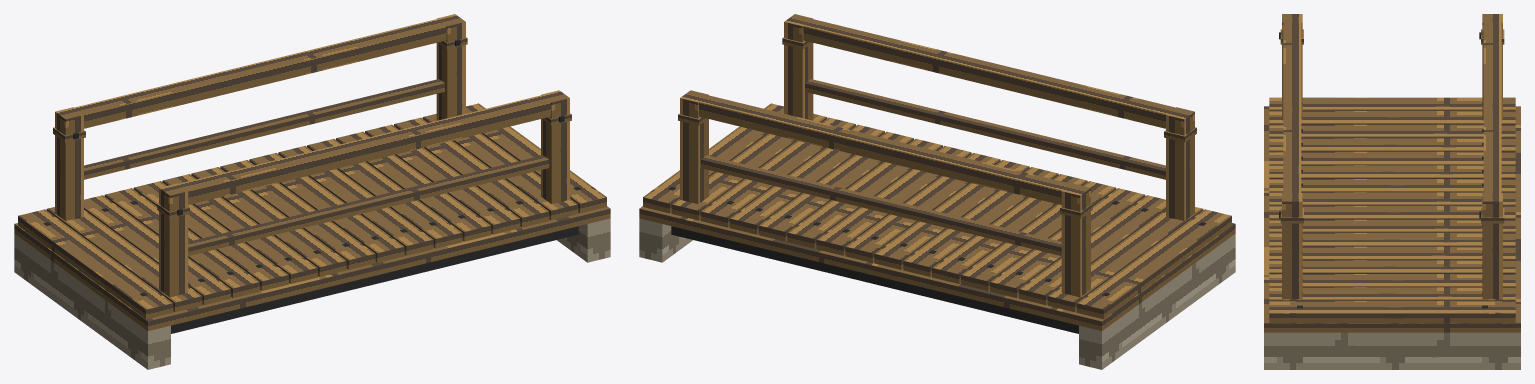
The model's file is bridge.glb.
3 renders of one model, left to right at view 1: azimuth 30°, elevation 25°; view 2: azimuth 150°, elevation 25°; view 3: azimuth 270°, elevation 25°, orthographic. The views are drawn at different scales.
Visible parts, largest first — view 1: CB230_Rail-0.78, CB230_Rail+0.78, CB230_BridgeDeckBeam, CB230_StoneAbutment-1.9, CB230_LowerRail-0.78, CB230_LowerRail0.78, CB230_DeckPlank_00, CB230_UnderBeam-0.78, CB230_DeckPlank_02, CB230_Post-1.65-0.78, CB230_DeckPlank_01, CB230_DeckPlank_07 (+16 smaller); view 2: CB230_Rail+0.78, CB230_Rail-0.78, CB230_BridgeDeckBeam, CB230_StoneAbutment-1.9, CB230_LowerRail0.78, CB230_LowerRail-0.78, CB230_DeckPlank_00, CB230_UnderBeam+0.78, CB230_DeckPlank_02, CB230_DeckPlank_01, CB230_Post-1.65+0.78, CB230_Post-1.65-0.78 (+16 smaller); view 3: CB230_StoneAbutment1.9, CB230_DeckPlank_15, CB230_BridgeDeckBeam, CB230_Rail+0.78, CB230_Rail-0.78, CB230_DeckPlank_02, CB230_DeckPlank_04, CB230_DeckPlank_11, CB230_DeckPlank_03, CB230_DeckPlank_05, CB230_DeckPlank_06, CB230_DeckPlank_14 (+12 smaller).
Boxes of the visible parts, left/top/right/bottom form: CB230_Rail-0.78: left=167, top=92, right=561, bottom=204; CB230_Rail+0.78: left=63, top=16, right=455, bottom=128; CB230_BridgeDeckBeam: left=14, top=206, right=610, bottom=330; CB230_StoneAbutment-1.9: left=14, top=233, right=170, bottom=369; CB230_LowerRail-0.78: left=188, top=155, right=549, bottom=255; CB230_LowerRail0.78: left=84, top=79, right=444, bottom=179; CB230_DeckPlank_00: left=18, top=209, right=173, bottom=319; CB230_UnderBeam-0.78: left=171, top=226, right=578, bottom=333; CB230_DeckPlank_02: left=84, top=195, right=230, bottom=305; CB230_Post-1.65-0.78: left=159, top=183, right=188, bottom=297; CB230_DeckPlank_01: left=46, top=207, right=202, bottom=312; CB230_DeckPlank_07: left=220, top=160, right=375, bottom=269; CB230_Rail+0.78: left=688, top=92, right=1082, bottom=204; CB230_Rail-0.78: left=793, top=16, right=1186, bottom=128; CB230_BridgeDeckBeam: left=639, top=206, right=1235, bottom=330; CB230_StoneAbutment-1.9: left=1079, top=233, right=1235, bottom=369; CB230_LowerRail0.78: left=700, top=155, right=1061, bottom=255; CB230_LowerRail-0.78: left=805, top=79, right=1165, bottom=179; CB230_DeckPlank_00: left=1076, top=209, right=1231, bottom=319; CB230_UnderBeam+0.78: left=671, top=226, right=1078, bottom=333; CB230_DeckPlank_02: left=1019, top=195, right=1165, bottom=305; CB230_DeckPlank_01: left=1047, top=207, right=1203, bottom=312; CB230_Post-1.65+0.78: left=1061, top=183, right=1090, bottom=297; CB230_Post-1.65-0.78: left=1166, top=107, right=1194, bottom=220; CB230_StoneAbutment1.9: left=1264, top=332, right=1520, bottom=369; CB230_DeckPlank_15: left=1269, top=301, right=1515, bottom=322; CB230_BridgeDeckBeam: left=1264, top=106, right=1520, bottom=332; CB230_Rail+0.78: left=1483, top=17, right=1501, bottom=198; CB230_Rail-0.78: left=1283, top=17, right=1301, bottom=198; CB230_DeckPlank_02: left=1269, top=124, right=1515, bottom=138; CB230_DeckPlank_04: left=1269, top=151, right=1515, bottom=165; CB230_DeckPlank_11: left=1269, top=246, right=1515, bottom=260; CB230_DeckPlank_03: left=1269, top=138, right=1515, bottom=151; CB230_DeckPlank_05: left=1269, top=165, right=1515, bottom=178; CB230_DeckPlank_06: left=1269, top=179, right=1515, bottom=192; CB230_DeckPlank_14: left=1269, top=287, right=1515, bottom=300.
Bounding box in the file's own units: 4 × 1.32 × 2.
Materials: 4 (3 with a texture image).
